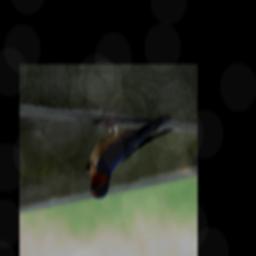Swallow: (85, 113, 188, 201)
